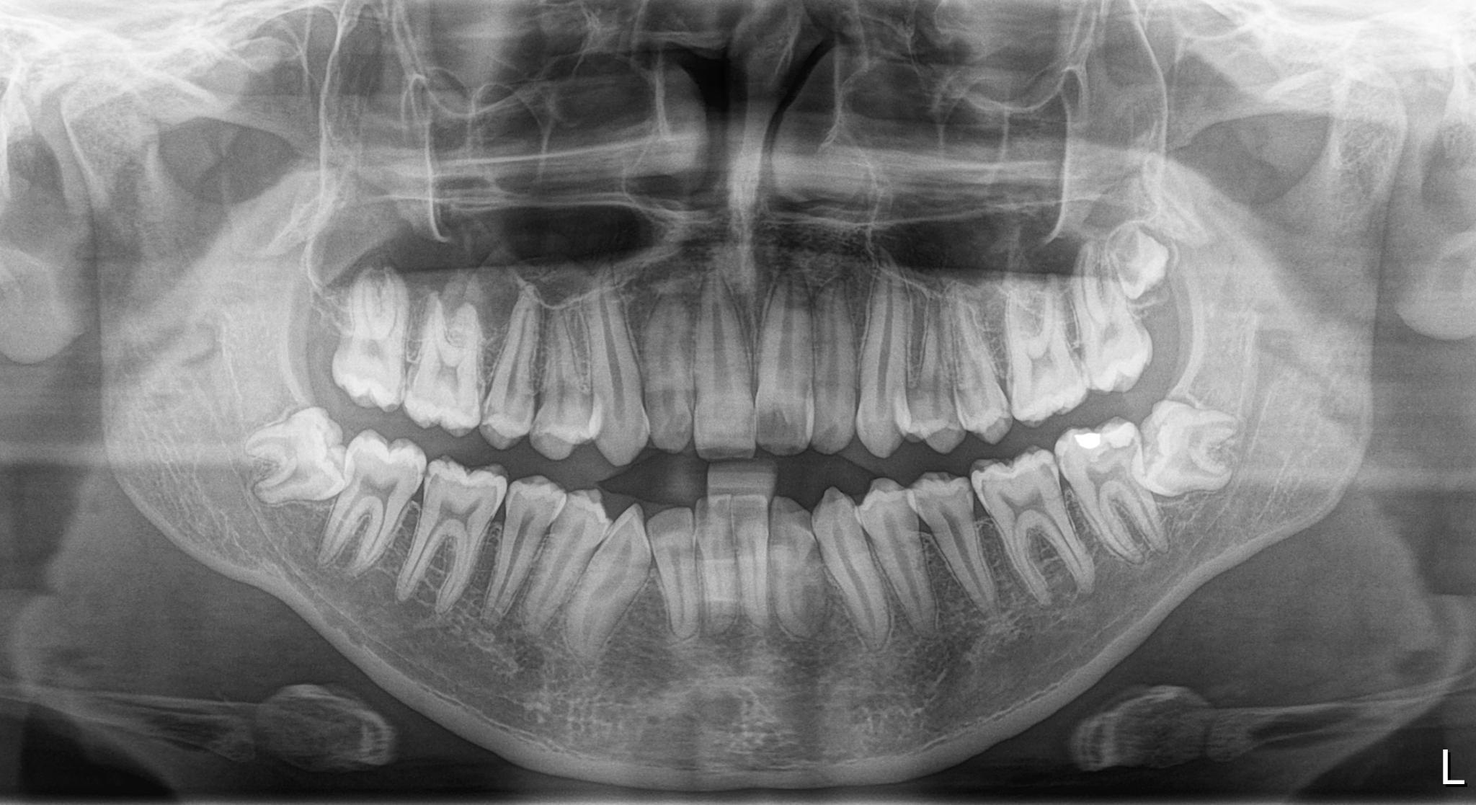Impacted Third Molar: (1128, 398, 1272, 498), (225, 425, 347, 505), (1095, 229, 1193, 299)
